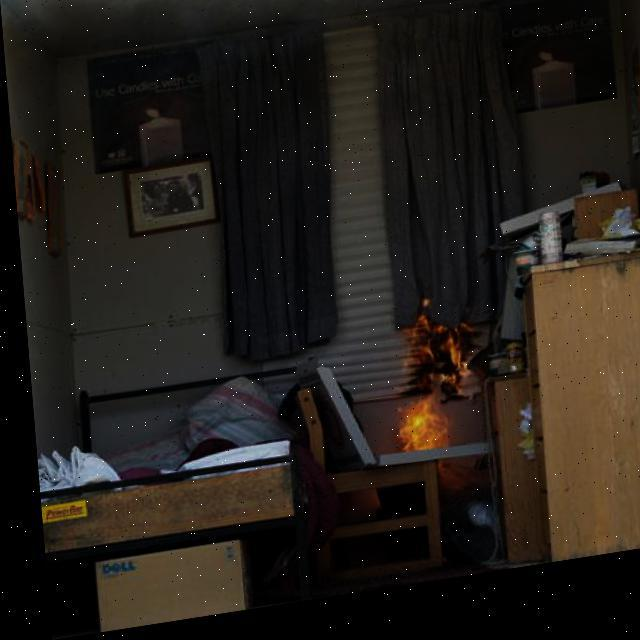Fire: (378, 302, 481, 488)
